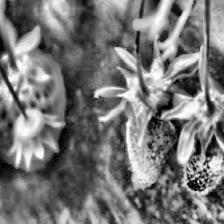Gray Mold: (93, 36, 203, 188), (158, 76, 224, 195)
